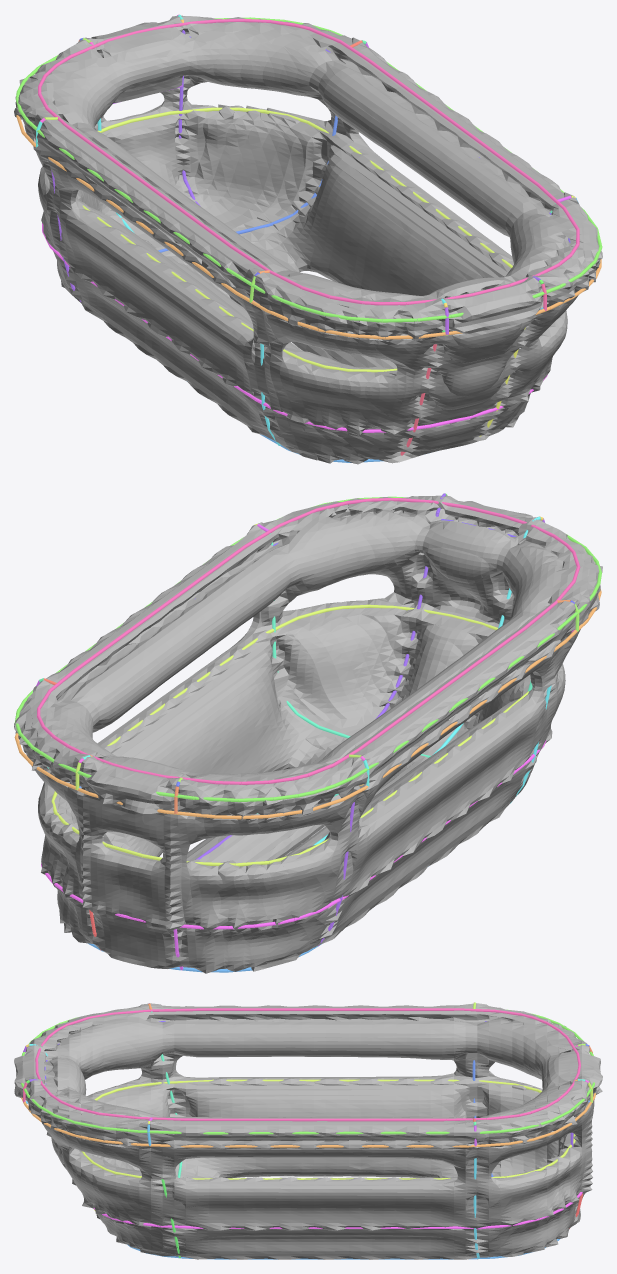
Rendered from flowrep_bathtub.gltf.
The picture shows the model from 3 angles, top to bottom: view 1: azimuth 30°, elevation 25°; view 2: azimuth 150°, elevation 25°; view 3: azimuth 270°, elevation 25°; orthographic projection. The views are drawn at different scales.
Size of the model in its own units: 0.4496 by 0.2895 by 0.8799.
